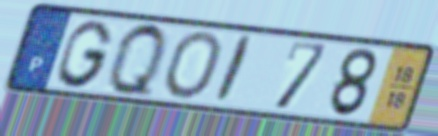7: (273, 39, 331, 113)
8: (326, 46, 380, 119)
G: (55, 18, 116, 90)
I: (210, 33, 257, 106)
O: (160, 29, 225, 102)
Q: (106, 19, 170, 103)
